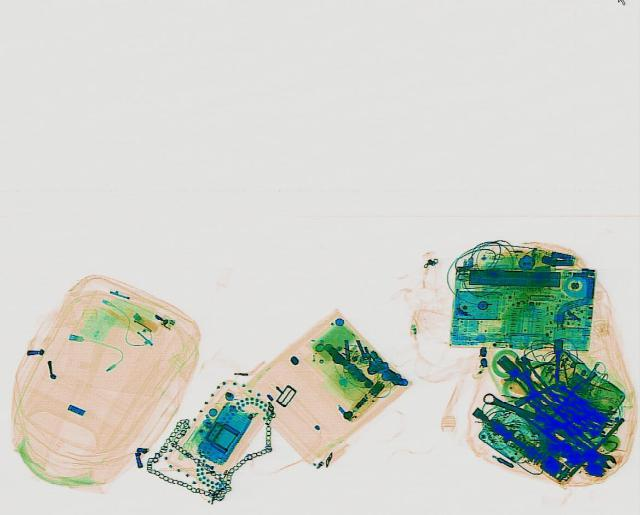Wrench: (556, 424, 622, 471), (514, 354, 538, 393)
